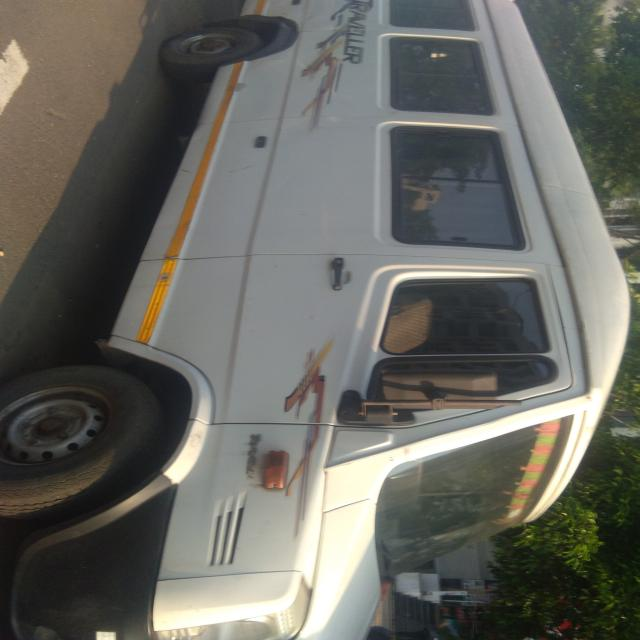Traveller: (0, 0, 628, 640)
